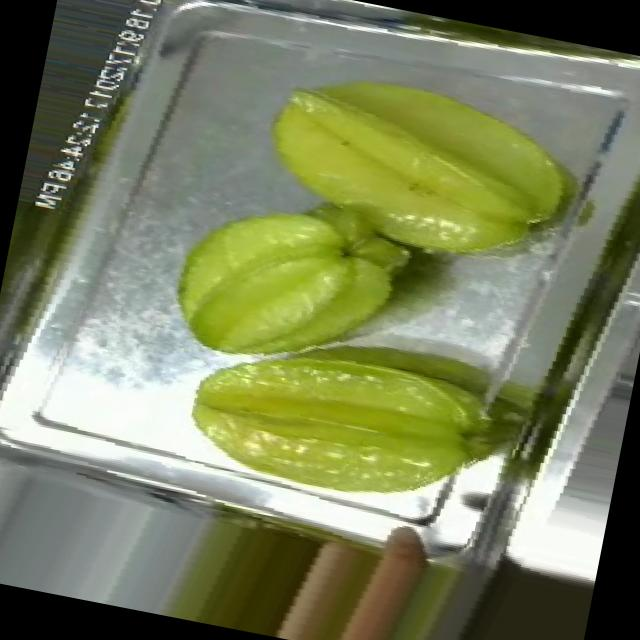fruit: (218, 26, 612, 331), (158, 286, 526, 542), (138, 160, 432, 410), (249, 494, 493, 640)
